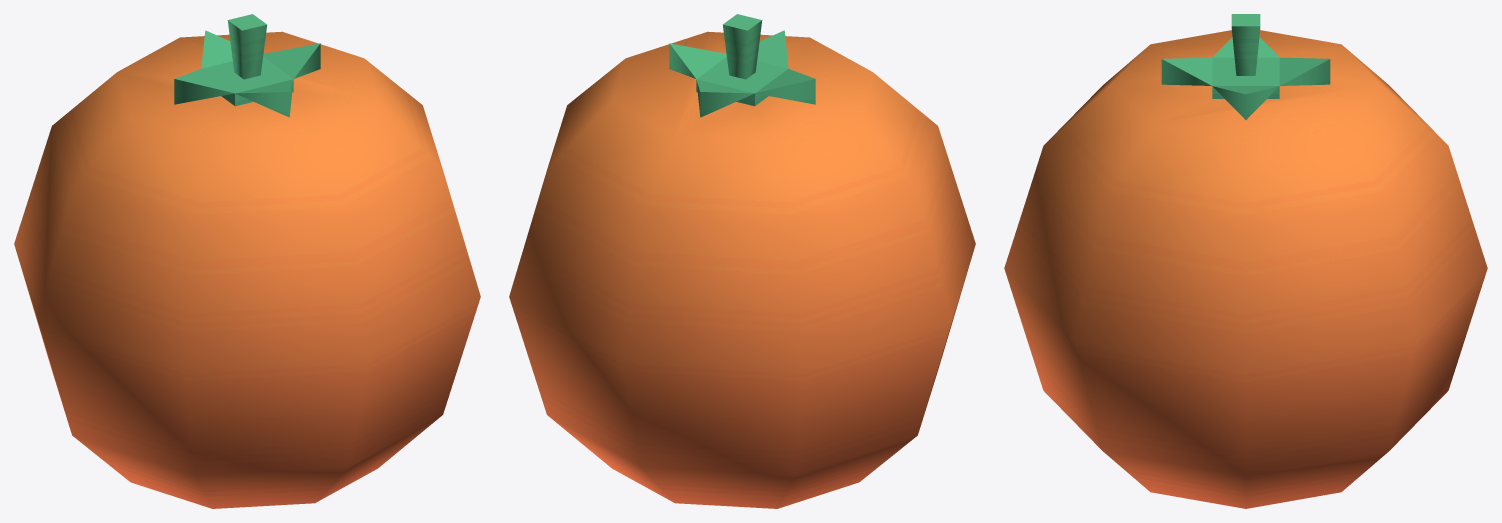
The model's file is orange.glb.
3 views of the same model, side by side, from view 1: azimuth 30°, elevation 25°; view 2: azimuth 150°, elevation 25°; view 3: azimuth 270°, elevation 25° (orthographic).
Visible parts, largest first — view 1: orange; view 2: orange; view 3: orange.
Boxes of the visible parts, bbox=[...] form: orange: bbox=[14, 14, 480, 508]; orange: bbox=[509, 14, 975, 508]; orange: bbox=[1004, 14, 1487, 508].
Bounding box in the file's own units: 0.1697 × 0.1672 × 0.1697.
Materials: 1 (1 with a texture image).
